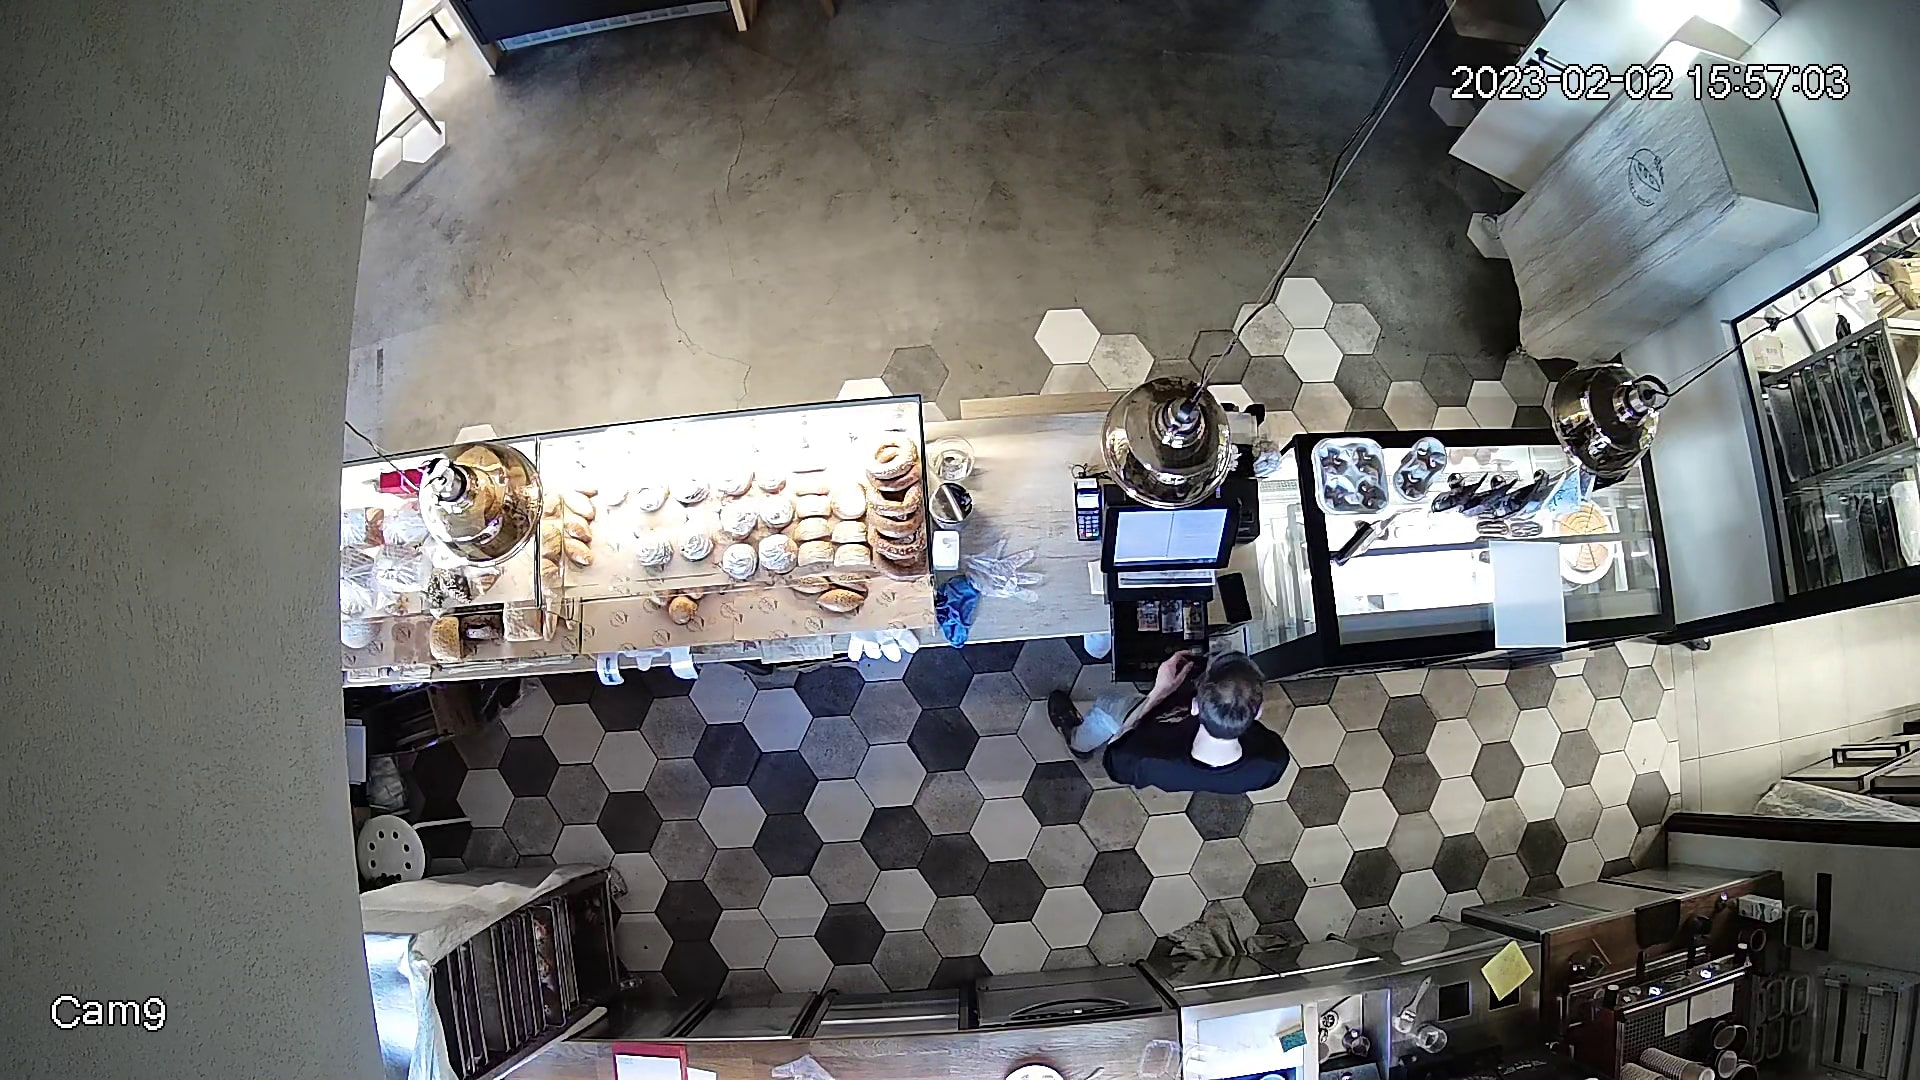openedcash: (1104, 498, 1232, 681)
person: (1057, 662, 1305, 792)
